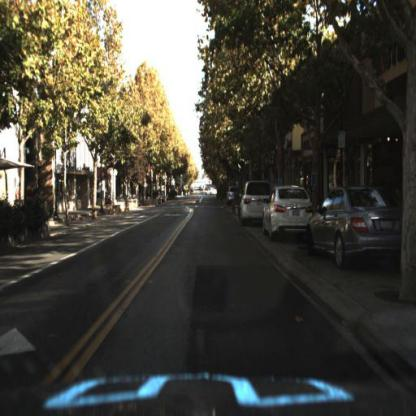car: (304, 186, 405, 268), (262, 185, 313, 243), (237, 180, 274, 231), (226, 187, 238, 209)
pedestrian: (12, 178, 27, 218)
